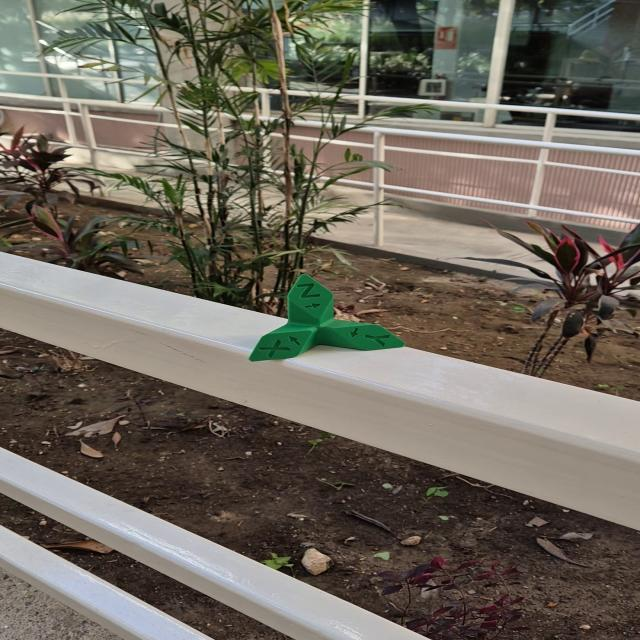objects: (246, 272, 408, 363)
